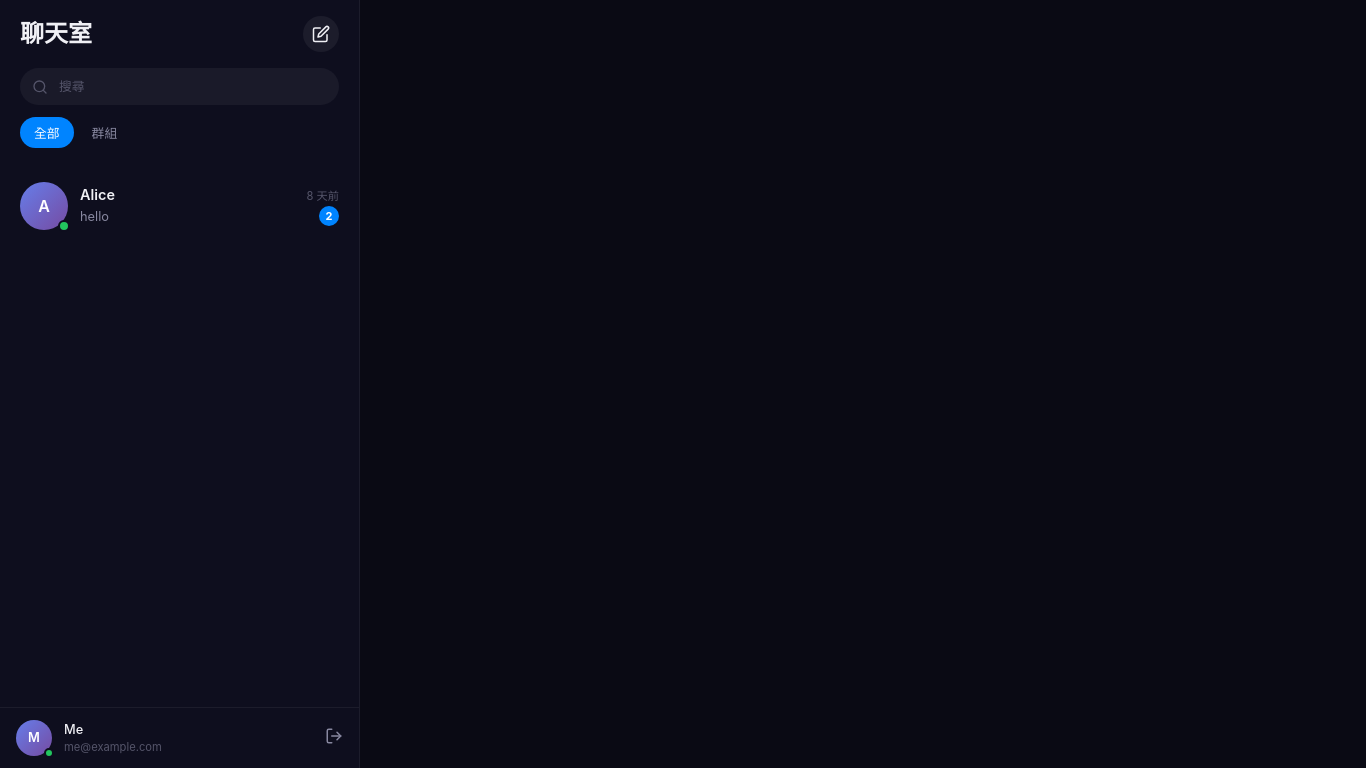
Scenario: Sidebar › opens and closes the new chat modal
Click the button with test id "new-chat-button": x=321, y=34 [303, 16, 339, 52]
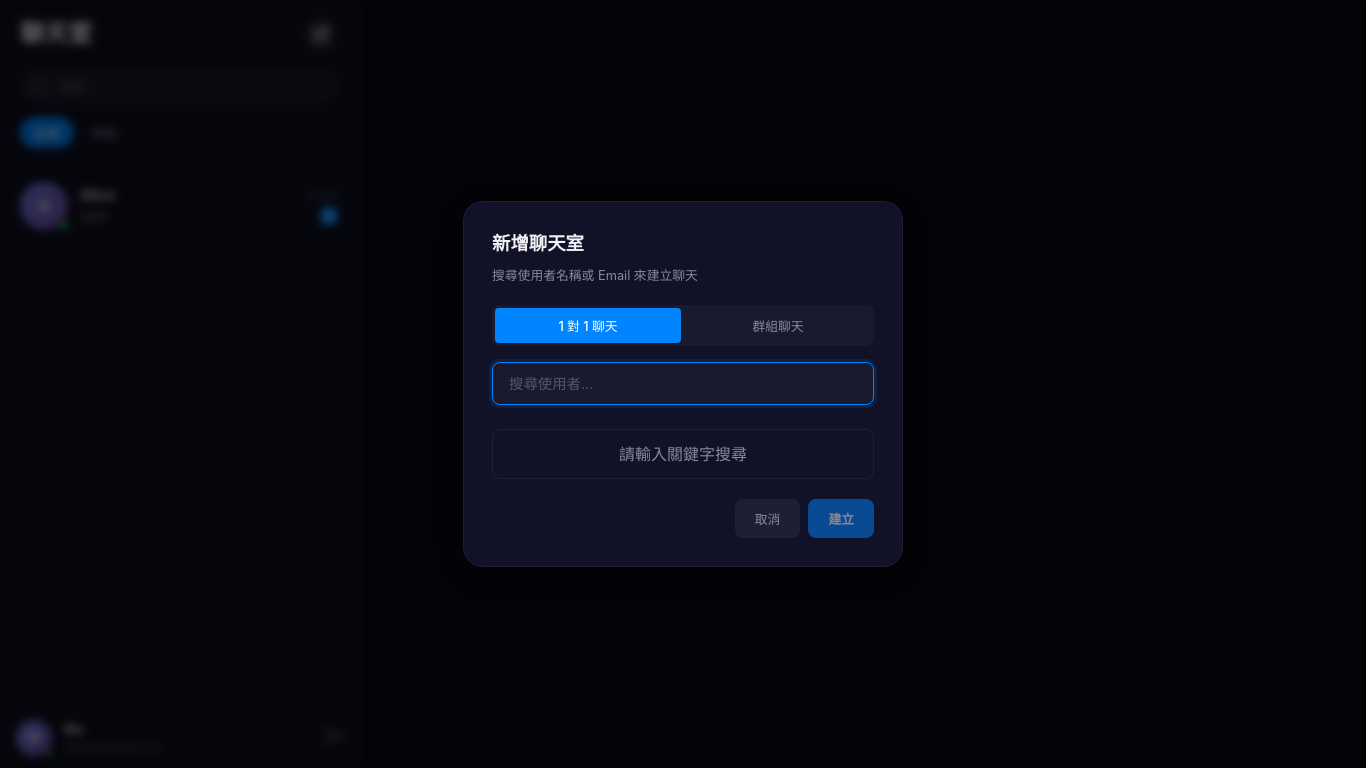
Check: the element with test id "new-chat-modal" is shown
Click the button "取消": x=768, y=518 [735, 499, 800, 538]
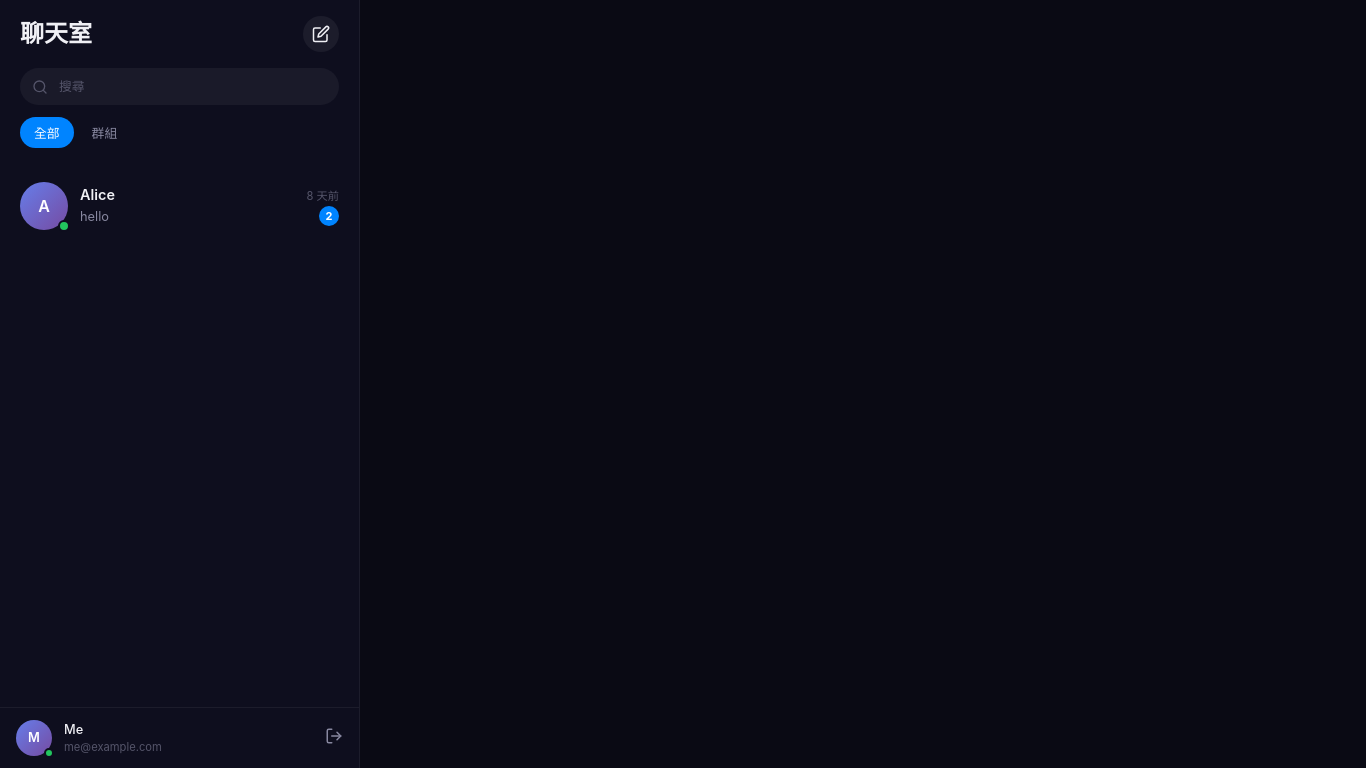
Check: the element with test id "new-chat-modal" is gone
